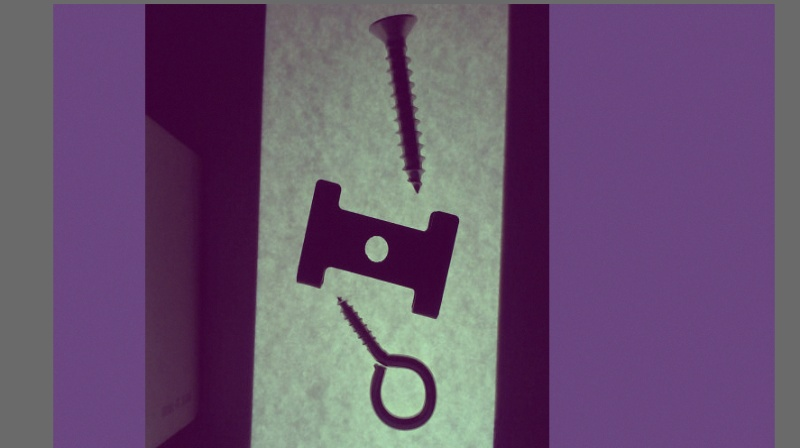O001: (333, 291, 438, 432)
O002: (296, 175, 459, 317)
S001: (368, 11, 425, 193)
